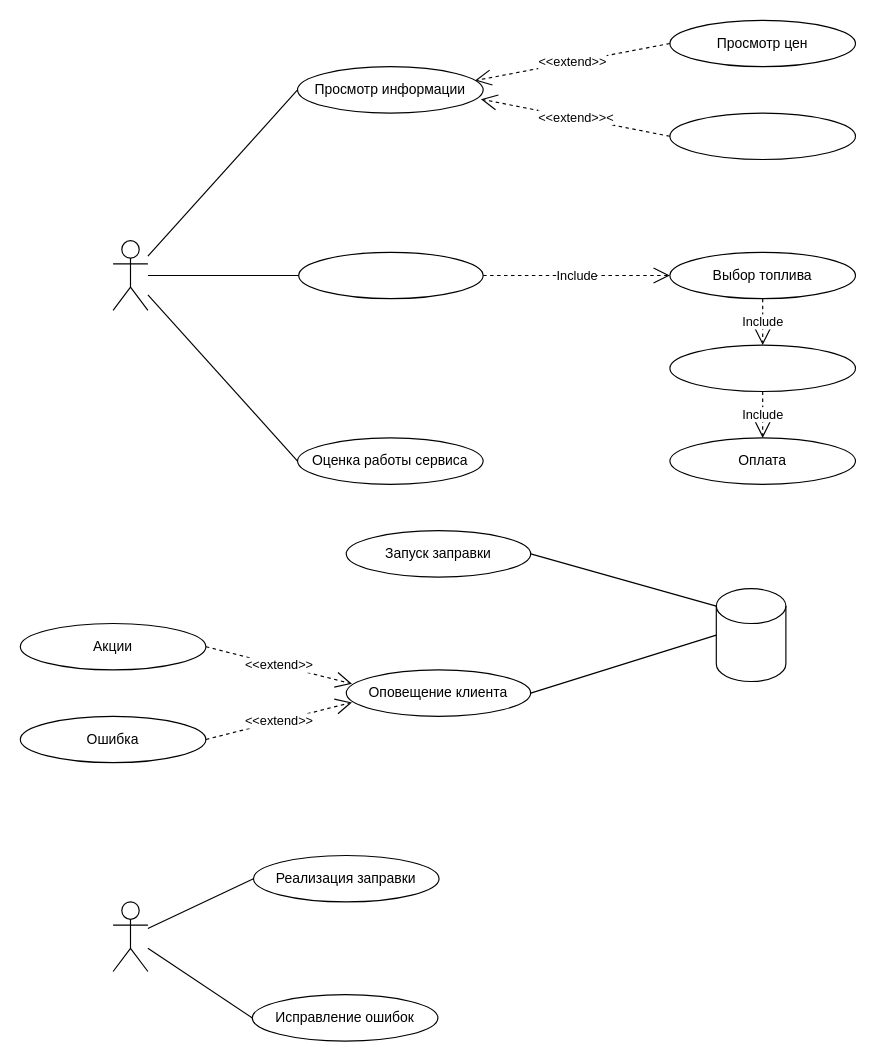
This 876x1061 diagram has some shape labels left out. Each missing label, with the centre of its shape:
Заправщик: point (130, 936)
Карта лояльности: point (762, 368)
Клиент: point (130, 275)
Оформление заказа: point (390, 275)
Просмотр акций: point (762, 136)
Станция заправки: point (750, 635)
